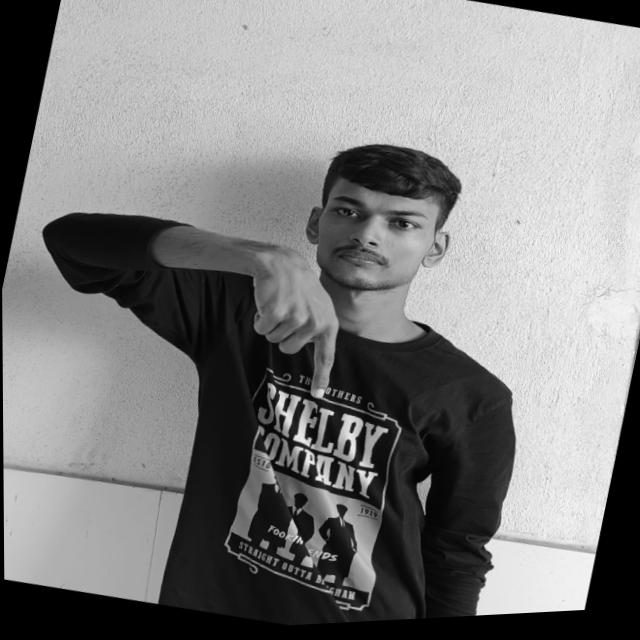Now: (215, 239, 364, 411)
